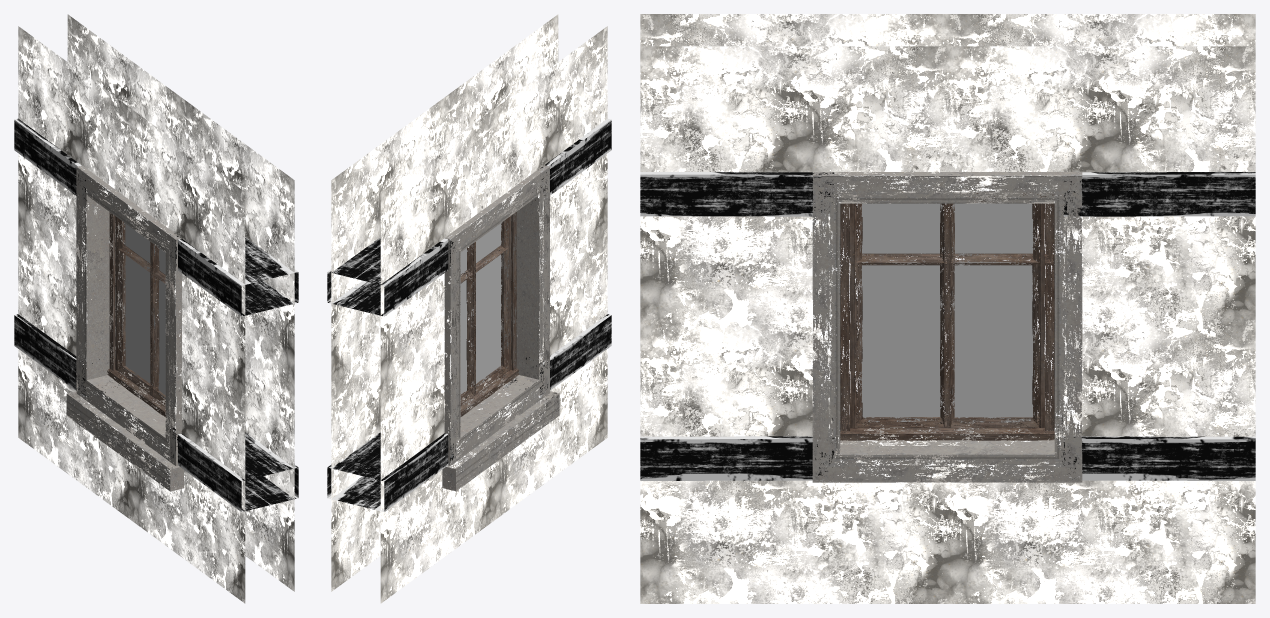
File: SM_wall_A_window_4x4_05_03.fbx
The picture shows the model from 3 angles, left to right: view 1: azimuth 30°, elevation 25°; view 2: azimuth 150°, elevation 25°; view 3: azimuth 270°, elevation 25°; orthographic projection. The views are drawn at different scales.
Parts seen in each view (by area): view 1: SM_wall_A_window_4x4_05_03_LOD0; view 2: SM_wall_A_window_4x4_05_03_LOD0; view 3: SM_wall_A_window_4x4_05_03_LOD0.
Boxes of the visible parts, box(x1,y1,x2,y2) form: SM_wall_A_window_4x4_05_03_LOD0: box(14, 14, 298, 603); SM_wall_A_window_4x4_05_03_LOD0: box(327, 14, 611, 603); SM_wall_A_window_4x4_05_03_LOD0: box(640, 14, 1255, 603).
Size of the model in its own units: 69.88 by 400 by 400.
Materials: 6 (5 with a texture image).
